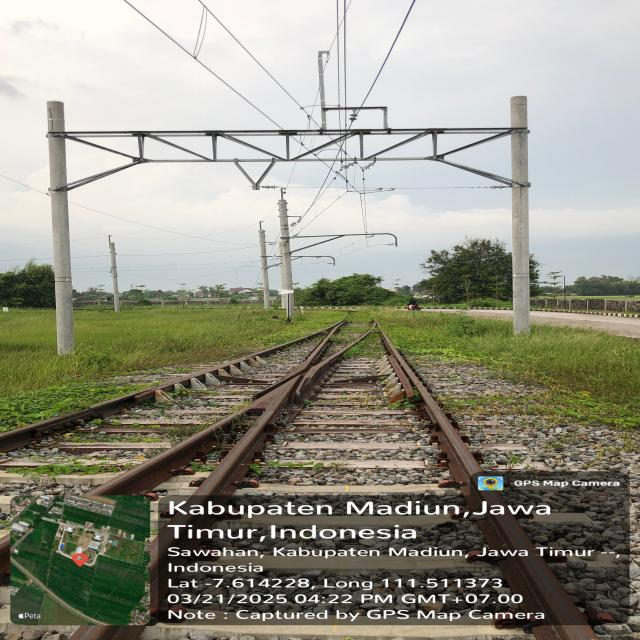rail-detection: (0, 357, 253, 451), (383, 332, 505, 510), (477, 507, 595, 640), (190, 379, 299, 504), (89, 427, 219, 496), (283, 330, 335, 380), (256, 340, 300, 356)
